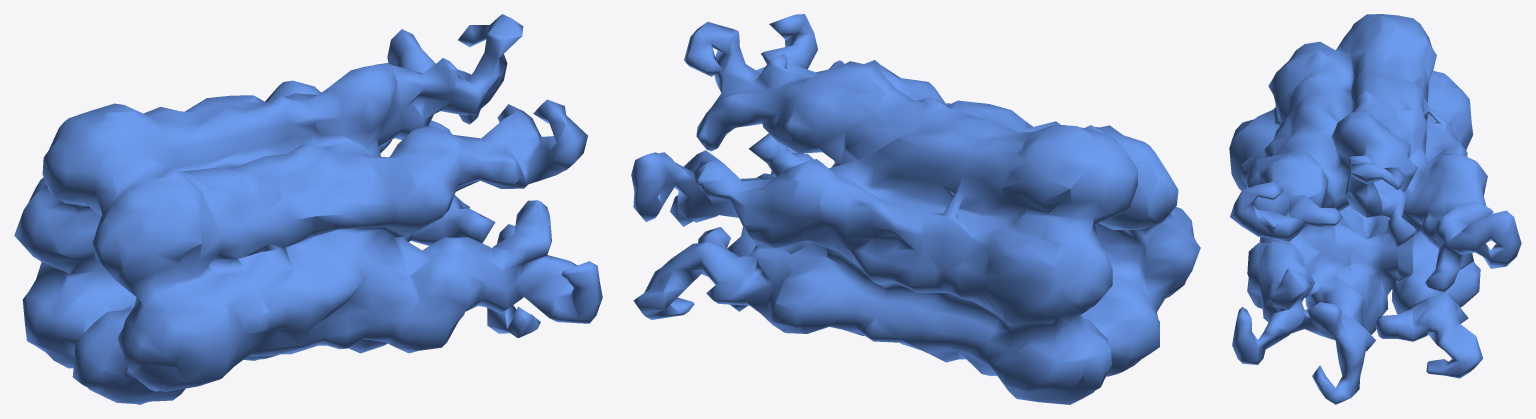
Rendered from Vesicle_161to166hexamer1Aligned.fbx.
3 views of the same model, side by side, from view 1: azimuth 30°, elevation 25°; view 2: azimuth 150°, elevation 25°; view 3: azimuth 270°, elevation 25° (orthographic). The views are drawn at different scales.
Parts seen in each view (by area): view 1: vesicle_MeshVes161Mesh; view 2: vesicle_MeshVes161Mesh; view 3: vesicle_MeshVes161Mesh.
Part boxes in pixels (x1,y1,x2,y2): vesicle_MeshVes161Mesh: (14,14,602,404); vesicle_MeshVes161Mesh: (631,14,1200,404); vesicle_MeshVes161Mesh: (1229,14,1521,404).
Size of the model in its own units: 143 by 88.64 by 96.78.
